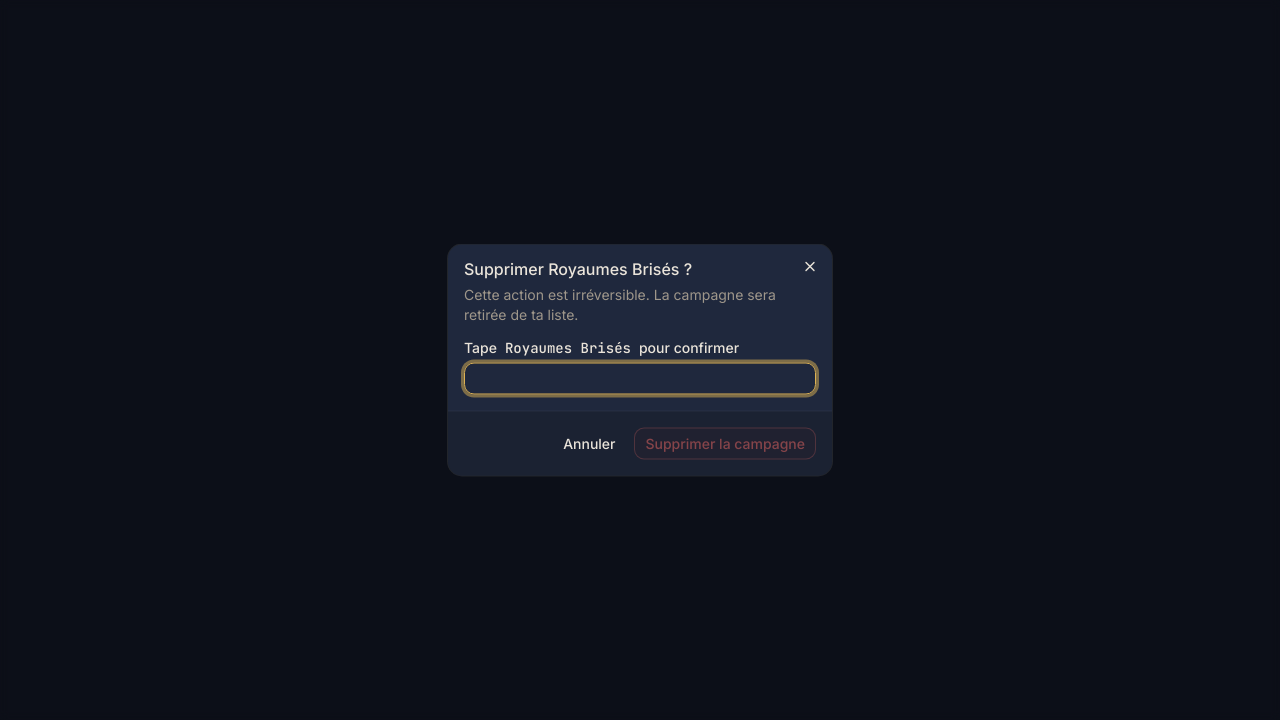
it: <CampaignDeleteConfirm> › confirm button is disabled until the user types the exact campaign name
Expected: the button "Supprimer la campagne" is disabled, top-left (634, 428), bottom-right (816, 460)
Type "Royaume" into the field labelled "Tape Royaumes Brisés pour confirmer" at (640, 378), box top-left (464, 362), bottom-right (816, 394)
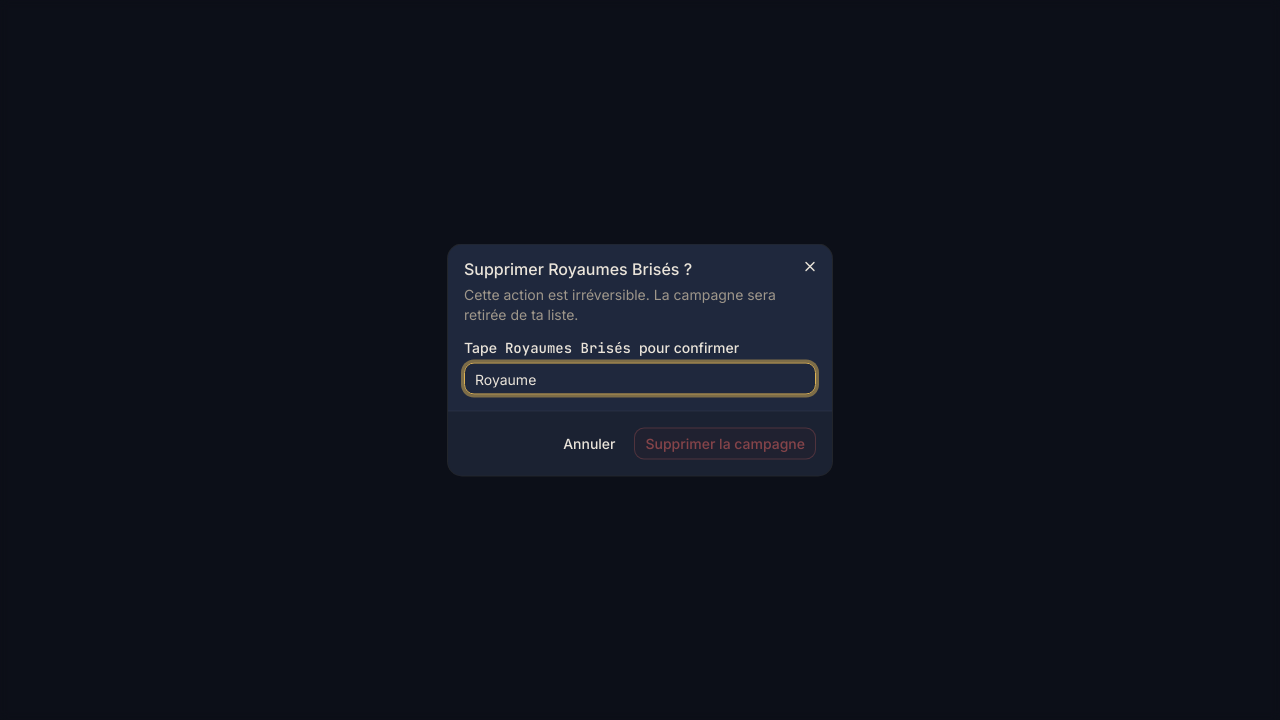
Expected: the button "Supprimer la campagne" is disabled, top-left (634, 428), bottom-right (816, 460)
Type "s Brisés" into the field labelled "Tape Royaumes Brisés pour confirmer" at (640, 378), box top-left (464, 362), bottom-right (816, 394)
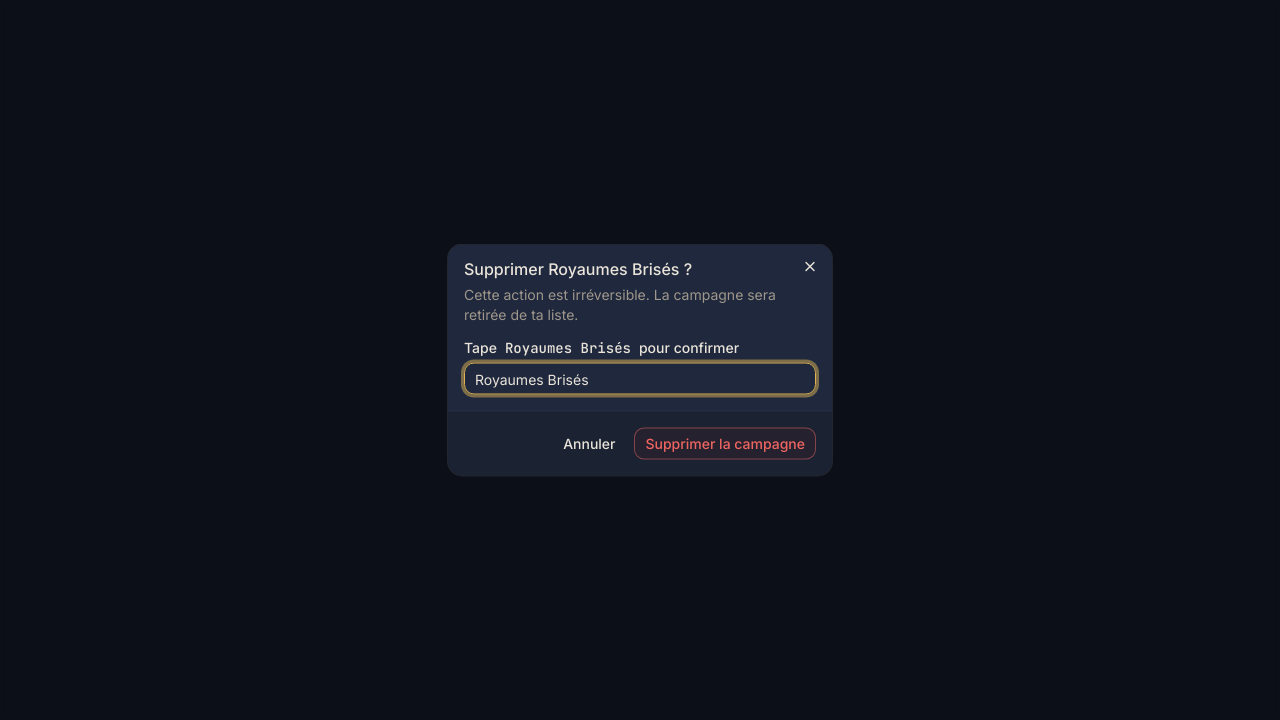
Result: the button "Supprimer la campagne" is enabled at top-left (634, 428), bottom-right (816, 460)
